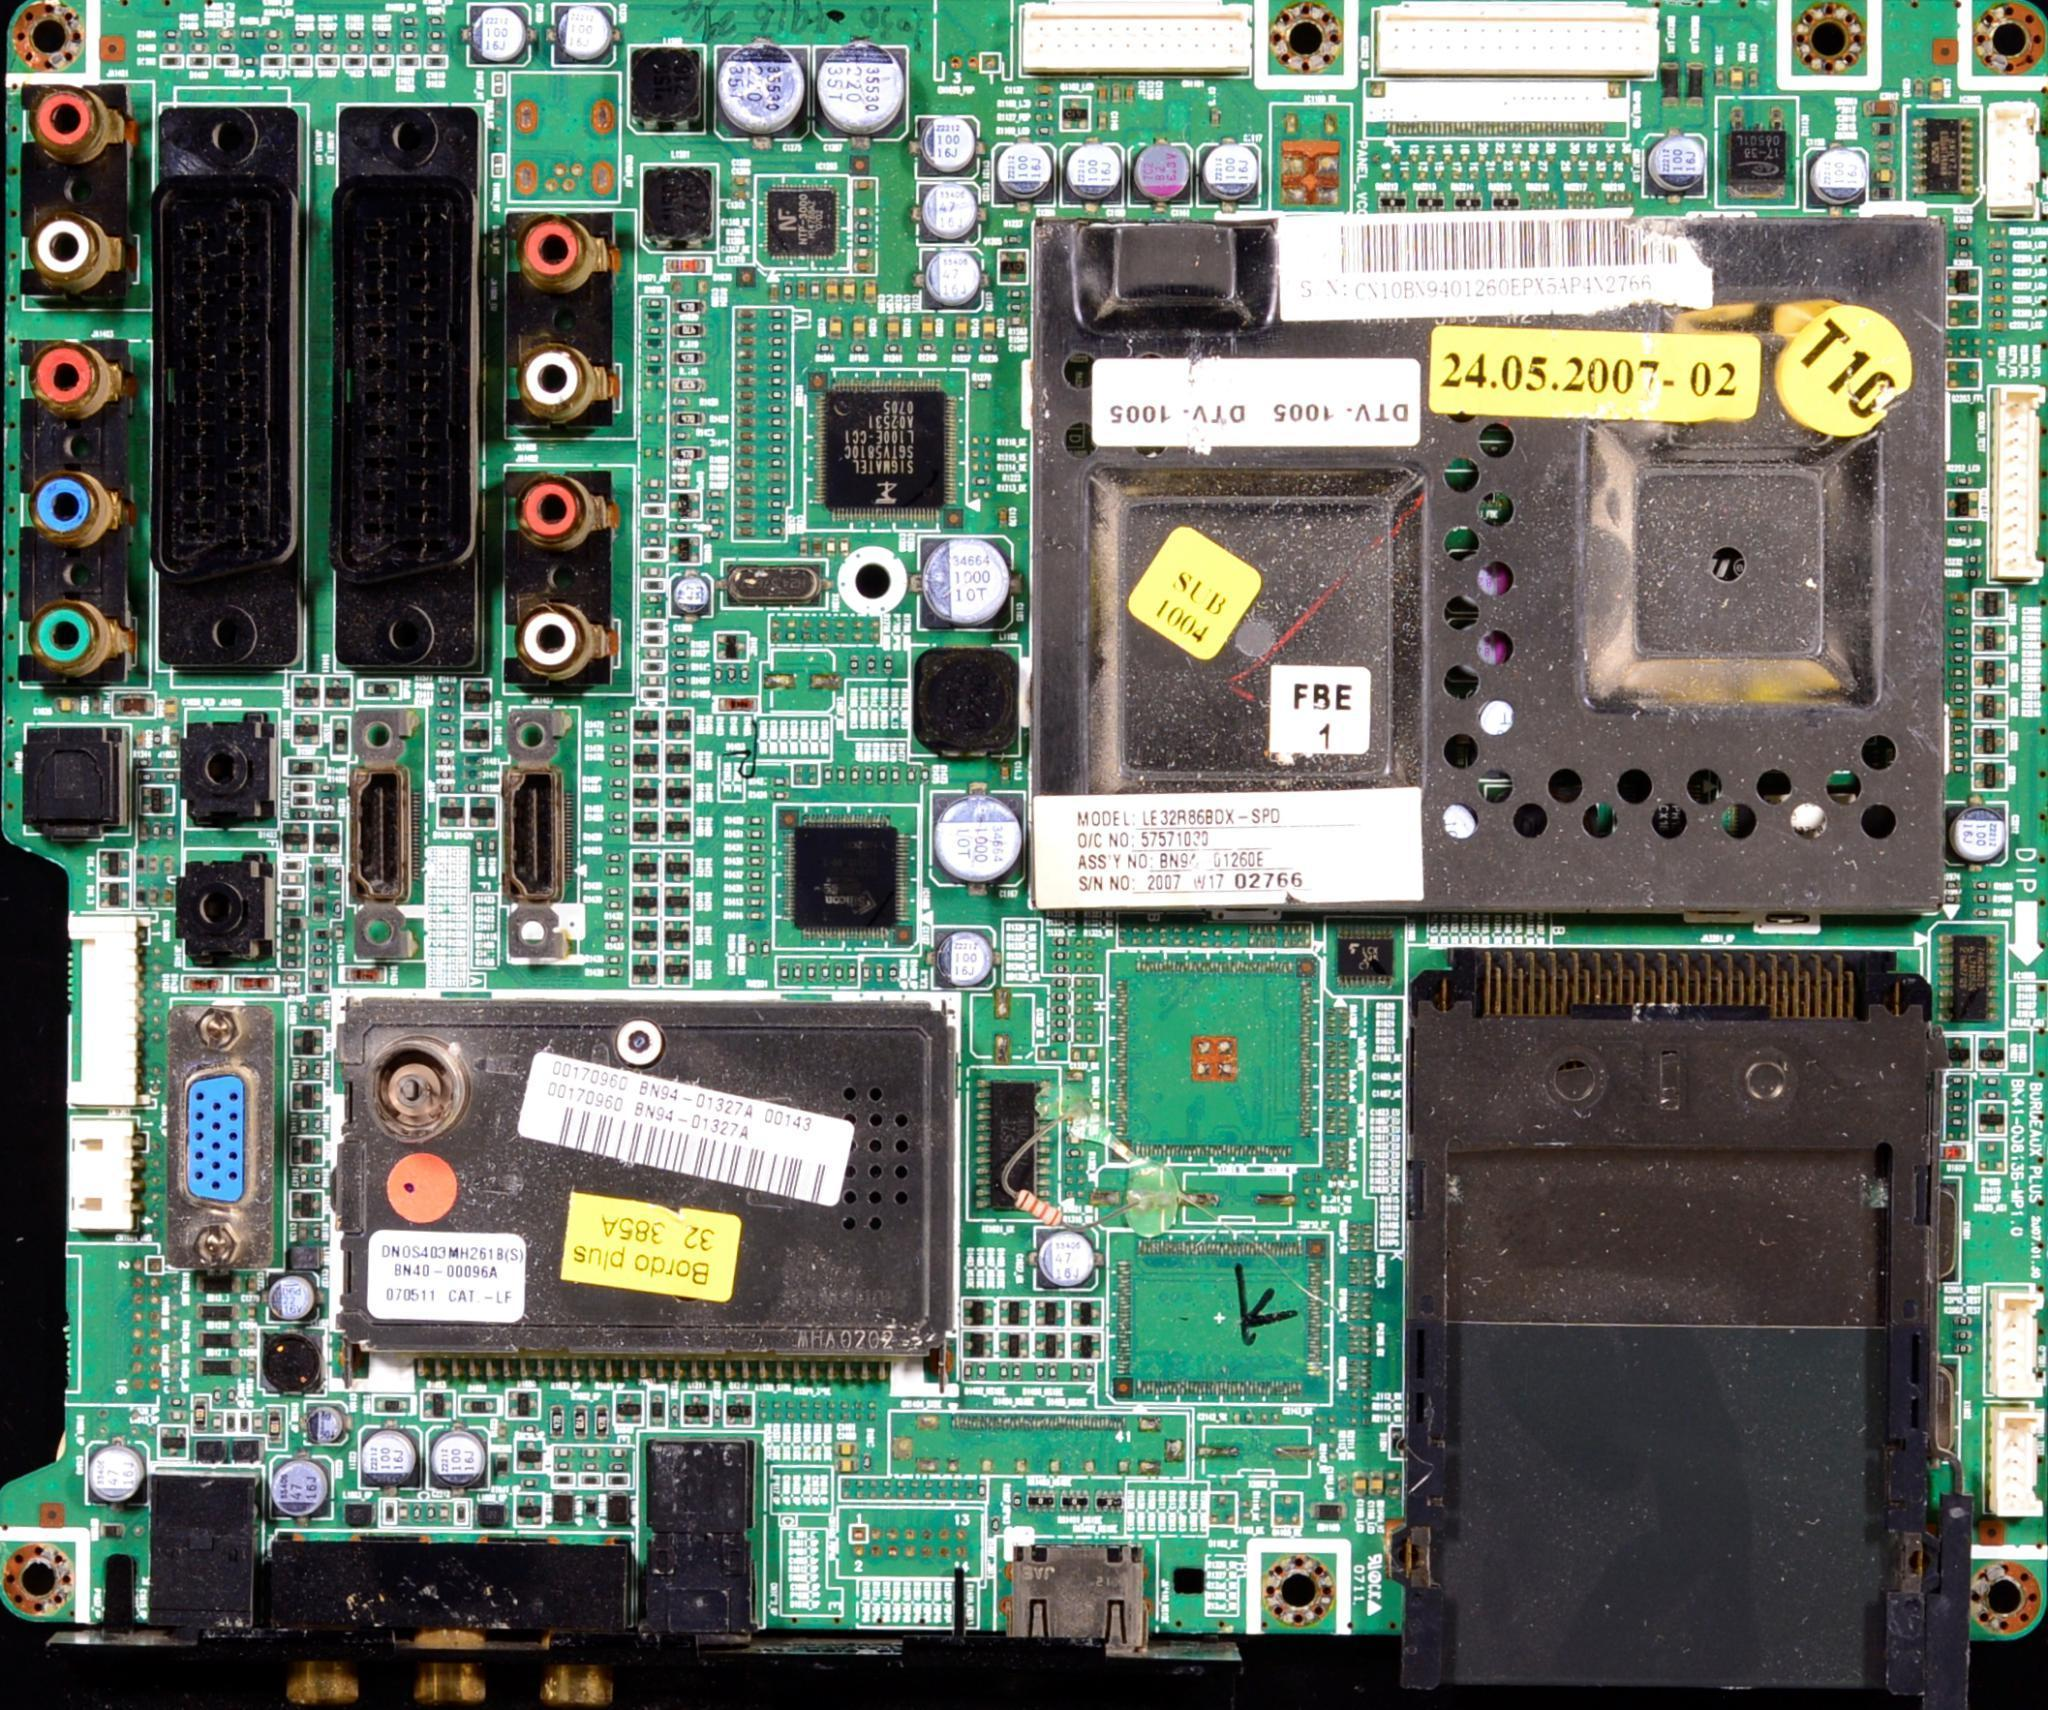Capacitor Jumper: (1061, 140, 1128, 204), (917, 116, 985, 179), (1136, 140, 1196, 206), (1203, 140, 1260, 206), (920, 252, 988, 308), (917, 185, 983, 242), (995, 150, 1051, 201), (917, 316, 941, 345), (862, 277, 879, 311), (1864, 100, 1897, 117), (827, 315, 845, 344), (993, 764, 1017, 786), (840, 276, 857, 306), (850, 315, 869, 342), (51, 696, 78, 715), (1352, 1472, 1369, 1501), (953, 315, 971, 340), (885, 316, 903, 342), (725, 175, 755, 191), (833, 1439, 861, 1456), (981, 315, 998, 342), (1371, 1468, 1385, 1501), (641, 517, 667, 534), (998, 505, 1014, 533), (640, 674, 670, 687), (850, 175, 874, 192), (827, 277, 840, 306), (1095, 82, 1111, 107), (765, 282, 782, 305), (786, 618, 801, 641), (163, 698, 179, 721), (816, 616, 830, 641), (1873, 153, 1897, 167), (833, 618, 847, 641), (1931, 77, 1944, 100), (835, 1462, 861, 1473), (735, 459, 760, 471), (247, 1302, 260, 1324), (245, 1354, 259, 1377), (850, 260, 879, 271), (1985, 320, 2009, 332), (735, 374, 759, 386), (735, 500, 759, 512), (1951, 476, 1978, 487), (850, 208, 873, 219), (737, 417, 759, 429), (373, 43, 395, 54), (737, 527, 759, 539), (1749, 66, 1761, 88), (162, 886, 174, 909), (726, 192, 752, 202), (298, 1225, 310, 1245), (1873, 141, 1893, 153), (735, 430, 755, 442), (289, 43, 313, 53), (733, 487, 757, 497), (1949, 594, 1970, 606), (801, 618, 811, 641), (856, 618, 866, 641), (772, 619, 782, 643), (136, 727, 146, 750), (498, 1421, 509, 1443), (737, 311, 759, 322), (735, 323, 757, 333), (737, 351, 759, 361), (737, 391, 759, 402), (425, 44, 447, 54), (871, 621, 881, 643), (320, 43, 338, 54), (1126, 83, 1135, 109), (245, 1274, 255, 1295), (247, 1327, 257, 1348), (1987, 294, 2007, 305), (345, 43, 366, 53), (1988, 242, 2012, 250), (735, 516, 759, 524), (737, 446, 755, 456), (1005, 316, 1027, 325), (735, 337, 757, 345), (737, 405, 759, 413), (731, 366, 759, 373), (192, 41, 208, 53), (799, 281, 808, 301), (162, 44, 182, 53), (401, 44, 418, 54), (735, 475, 755, 483), (94, 694, 102, 715), (1951, 710, 1968, 720), (850, 248, 874, 255), (1031, 88, 1055, 95), (672, 691, 687, 699), (1987, 271, 2005, 277)
Connector: (151, 116, 318, 686), (9, 92, 163, 687), (366, 131, 488, 653), (500, 218, 634, 681), (282, 1543, 623, 1708), (1364, 7, 1670, 78), (1000, 1536, 1163, 1666), (1014, 2, 1255, 80), (58, 903, 136, 1101), (70, 1120, 146, 1240), (1988, 97, 2045, 218), (1992, 1400, 2048, 1518), (1987, 1281, 2041, 1397)
IC: (777, 805, 917, 949), (973, 1067, 1056, 1220), (1909, 109, 1978, 202), (1332, 921, 1402, 990)
Resistor Jumper: (959, 1358, 975, 1387), (430, 769, 463, 783), (993, 1359, 1010, 1385), (845, 652, 862, 677), (429, 710, 459, 723), (600, 881, 628, 897), (337, 721, 349, 755), (740, 909, 769, 922), (1944, 665, 1970, 681), (391, 14, 418, 27), (600, 851, 628, 864), (434, 754, 459, 767), (602, 949, 628, 963), (845, 344, 874, 356), (915, 345, 944, 357), (764, 485, 793, 497), (1067, 1365, 1082, 1387), (435, 694, 458, 710), (1944, 1075, 1971, 1087), (641, 592, 665, 606), (878, 764, 891, 788), (606, 788, 629, 801), (765, 376, 791, 388), (743, 881, 769, 893), (602, 919, 628, 931), (1002, 301, 1024, 315), (765, 335, 788, 349), (435, 682, 458, 696), (607, 706, 629, 720), (606, 742, 628, 755), (607, 774, 629, 788), (769, 788, 791, 801), (747, 893, 769, 907), (430, 727, 459, 737), (607, 721, 624, 738), (429, 742, 463, 750), (769, 524, 788, 539), (1033, 1359, 1044, 1383), (213, 1382, 225, 1405), (580, 1462, 604, 1473), (162, 29, 185, 41), (815, 345, 839, 357), (1050, 936, 1073, 948), (1953, 219, 1973, 233), (767, 308, 788, 322), (765, 432, 793, 442), (706, 487, 726, 500), (885, 653, 895, 681), (602, 931, 623, 944), (1050, 1033, 1072, 1045), (1065, 1147, 1087, 1159), (988, 1513, 1000, 1535), (949, 345, 971, 357), (726, 664, 738, 686), (607, 755, 629, 767), (905, 764, 917, 786), (604, 810, 626, 822), (747, 841, 769, 852), (747, 869, 769, 881), (1014, 1361, 1024, 1387), (978, 1475, 988, 1501), (1002, 289, 1027, 299), (975, 381, 992, 396), (765, 473, 791, 483), (820, 963, 833, 982), (1948, 1099, 1966, 1113), (769, 458, 788, 471), (1965, 553, 1983, 567), (869, 650, 878, 679), (425, 1502, 437, 1523), (767, 403, 788, 415), (765, 446, 789, 456), (218, 43, 242, 53), (703, 516, 726, 526), (852, 764, 862, 788), (864, 764, 874, 788), (316, 793, 337, 805), (604, 902, 628, 912), (1051, 949, 1072, 961), (243, 54, 259, 70), (672, 635, 689, 648), (748, 812, 765, 825), (1051, 963, 1073, 973), (874, 961, 885, 983), (1050, 992, 1072, 1002), (1085, 1361, 1095, 1383), (765, 500, 788, 510), (839, 762, 849, 784), (1971, 909, 1994, 919), (310, 956, 332, 966), (883, 344, 902, 356), (674, 522, 692, 534), (668, 660, 687, 672), (163, 822, 175, 841), (752, 854, 771, 866), (1971, 880, 1990, 892), (1971, 893, 1990, 905), (920, 762, 929, 788), (893, 762, 902, 788), (794, 961, 805, 982), (310, 983, 330, 994), (282, 985, 303, 995), (311, 1222, 321, 1242), (553, 1462, 573, 1472), (852, 221, 873, 231), (852, 237, 873, 247), (243, 29, 259, 43), (769, 351, 789, 361), (706, 504, 726, 514), (1949, 694, 1970, 704), (430, 781, 451, 791), (464, 781, 485, 791), (611, 825, 626, 839), (604, 866, 624, 876), (781, 960, 789, 983), (808, 960, 816, 983), (606, 966, 623, 978), (980, 1358, 988, 1382), (611, 1458, 628, 1470), (784, 277, 793, 301), (970, 480, 993, 488), (835, 963, 845, 982), (1051, 1006, 1070, 1016), (299, 1169, 310, 1188), (429, 31, 447, 41), (769, 390, 788, 400), (769, 419, 788, 429), (1948, 607, 1966, 618), (645, 648, 663, 658), (674, 650, 692, 660), (714, 664, 725, 682), (1949, 682, 1968, 693), (1951, 720, 1970, 730), (1951, 737, 1970, 747), (294, 781, 313, 791), (284, 956, 303, 966), (1050, 1359, 1058, 1382), (344, 32, 366, 41), (488, 835, 497, 858), (1943, 895, 1965, 903), (764, 936, 772, 958), (750, 938, 759, 960), (230, 1382, 236, 1409), (311, 1171, 323, 1186), (284, 932, 299, 944), (281, 973, 301, 982), (1051, 977, 1068, 987), (1051, 1019, 1072, 1028), (313, 1062, 323, 1079), (1948, 1116, 1965, 1126), (413, 1499, 422, 1519), (373, 27, 390, 37), (189, 31, 209, 39), (769, 366, 789, 374), (704, 529, 725, 538), (1951, 750, 1968, 761), (476, 837, 485, 858), (1944, 880, 1961, 890), (284, 902, 304, 910), (138, 755, 151, 767), (864, 965, 873, 983), (1983, 1079, 2002, 1087), (429, 19, 447, 27), (400, 32, 418, 41), (645, 493, 663, 502), (1965, 572, 1983, 580), (1949, 628, 1968, 636), (740, 664, 748, 682), (769, 776, 788, 784), (293, 796, 311, 805), (748, 829, 767, 837), (299, 1116, 310, 1131), (167, 1399, 189, 1405), (765, 516, 788, 522), (866, 1451, 874, 1468), (320, 783, 337, 791), (294, 810, 311, 818), (153, 822, 162, 839), (311, 944, 328, 953), (1982, 1089, 2002, 1096), (978, 345, 998, 352), (1951, 641, 1966, 650), (850, 965, 857, 983), (301, 1060, 308, 1079), (645, 538, 663, 544), (1948, 657, 1966, 664), (284, 876, 303, 883), (315, 1114, 321, 1131), (1954, 252, 1971, 259), (293, 32, 310, 39), (321, 31, 335, 39), (1953, 766, 1966, 774), (675, 675, 691, 682), (827, 766, 832, 786), (648, 572, 667, 577), (769, 327, 786, 332)
Transistor: (1941, 927, 2007, 1024), (158, 1424, 192, 1462), (1968, 587, 2007, 619), (1970, 687, 2007, 720), (684, 1388, 714, 1428), (725, 1392, 759, 1426), (1061, 95, 1092, 133), (1944, 490, 1982, 521), (1971, 759, 2009, 789), (95, 851, 133, 881), (1973, 623, 2009, 653), (1971, 657, 2007, 687), (463, 718, 493, 754), (1034, 1297, 1068, 1327), (633, 708, 663, 742), (612, 1392, 645, 1422), (515, 1438, 546, 1470), (629, 812, 662, 842), (663, 852, 694, 885), (662, 888, 692, 921), (1943, 1035, 1971, 1069), (1977, 1103, 2005, 1137), (289, 1189, 323, 1218), (515, 1492, 544, 1526), (667, 708, 696, 742), (1973, 727, 2007, 755), (289, 1084, 325, 1111), (463, 679, 490, 715), (963, 1298, 1000, 1324), (629, 955, 660, 985), (662, 919, 692, 949), (1978, 1036, 2007, 1069), (293, 1029, 327, 1057), (1072, 1298, 1102, 1327), (424, 1388, 452, 1419), (510, 1388, 539, 1419), (294, 677, 323, 708), (633, 744, 662, 774), (663, 745, 694, 774), (629, 921, 658, 951), (1948, 269, 1980, 296), (665, 779, 692, 812), (634, 851, 662, 883), (1073, 1332, 1102, 1361), (998, 252, 1027, 281), (633, 779, 662, 808), (293, 1137, 323, 1164), (469, 796, 497, 827), (964, 1331, 997, 1356), (325, 677, 350, 710), (99, 885, 134, 907), (1002, 1298, 1031, 1325), (1000, 1331, 1029, 1358), (441, 796, 468, 825), (1036, 1334, 1067, 1359), (296, 711, 320, 744), (313, 824, 338, 852), (663, 955, 687, 985), (665, 815, 692, 841), (634, 886, 658, 915), (286, 825, 308, 854)
